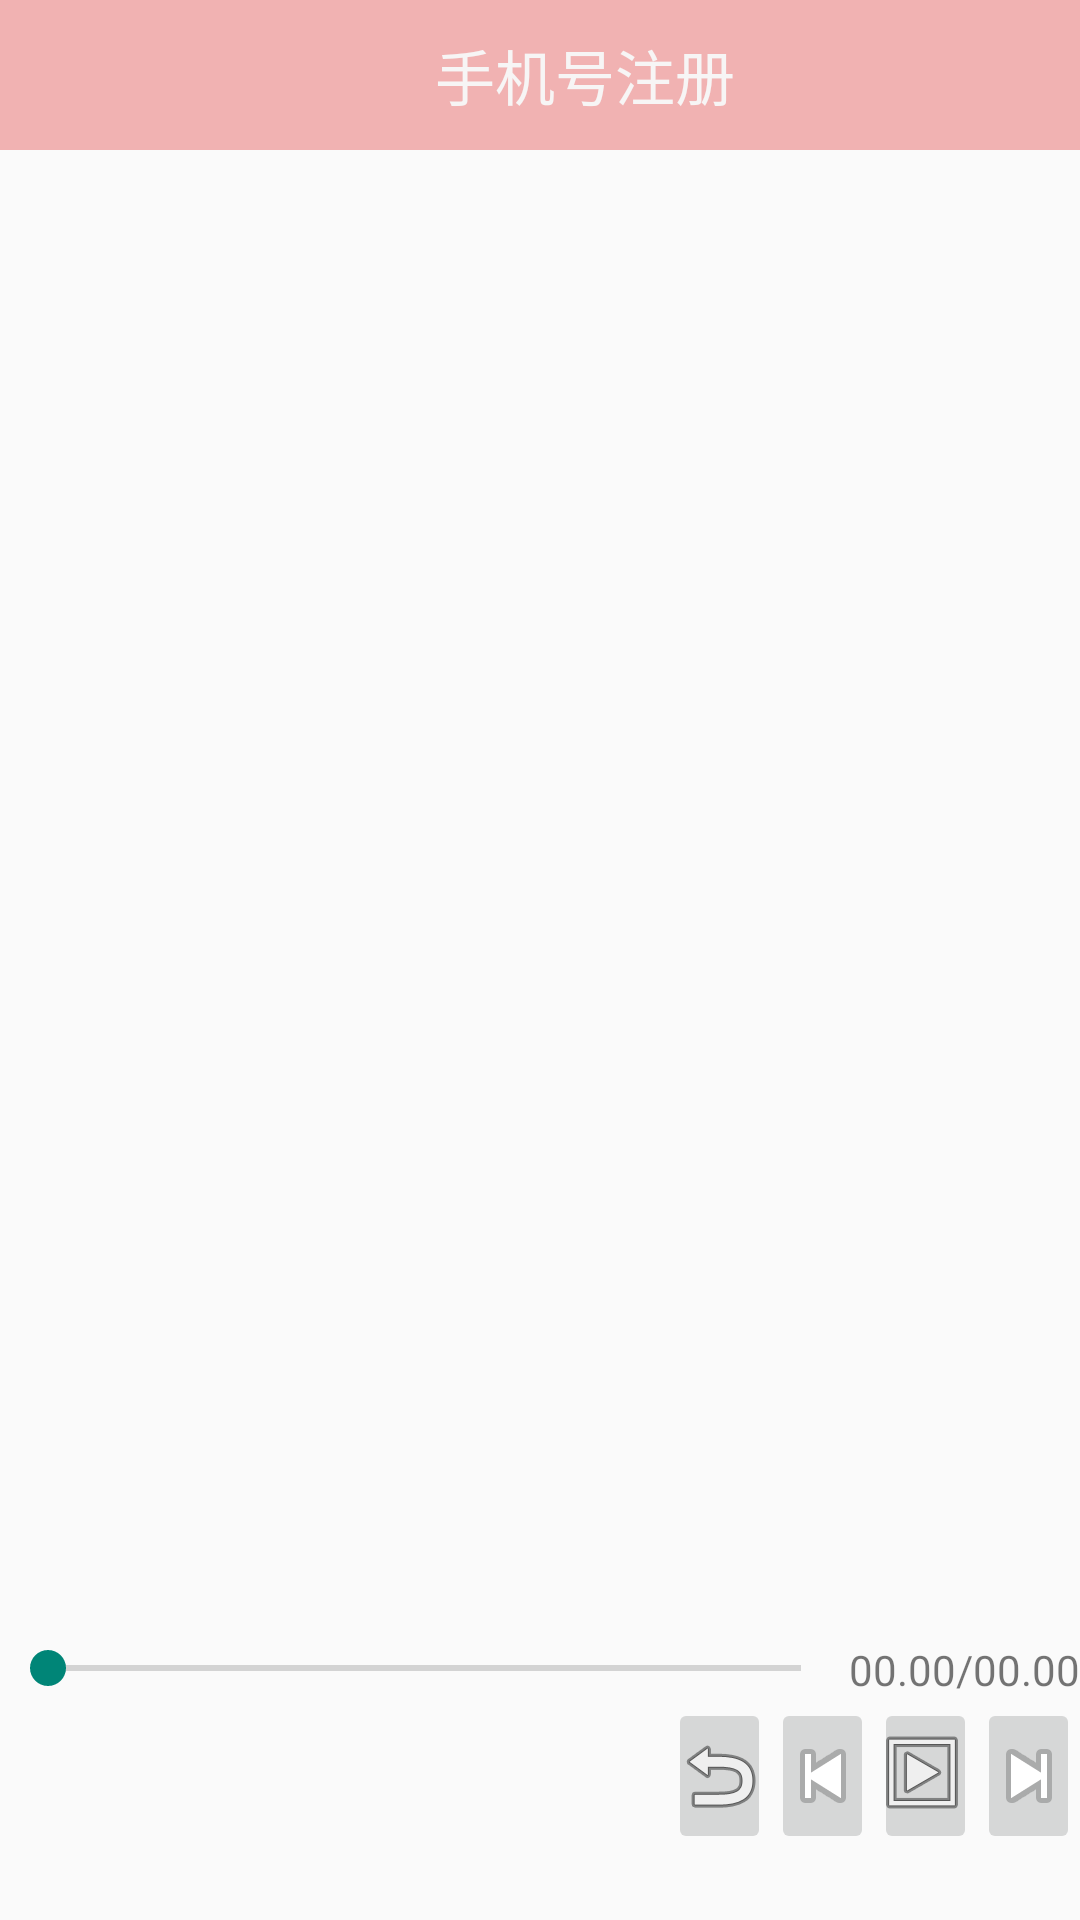

Icons on this 1080px×1920px Android screen, each with the point to tap as (x=x, y=y):
next: (x=1028, y=1776)
previous: (x=822, y=1776)
revert: (x=719, y=1776)
slideshow: (x=925, y=1776)
